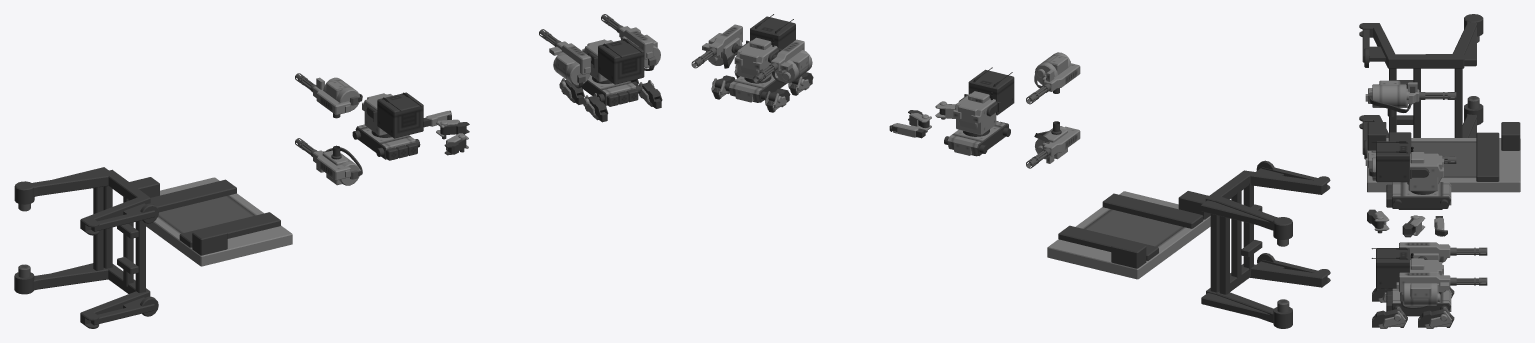
The model's file is deployable_droid.fbx.
The picture shows the model from 3 angles, left to right: view 1: azimuth 30°, elevation 25°; view 2: azimuth 150°, elevation 25°; view 3: azimuth 270°, elevation 25°; orthographic projection.
Visible parts, largest first — view 1: mule_driod_davit, mule_driod_davit_base, deployable_droid_static, deployable_droid_gun, deployable_droid_pivot, deployable_droid_base, deployable_droid_leg_right; view 2: mule_driod_davit, mule_driod_davit_base, deployable_droid_static, deployable_droid_pivot, deployable_droid_gun, deployable_droid_base; view 3: deployable_droid_static, mule_driod_davit_base, mule_driod_davit, deployable_droid_pivot, deployable_droid_gun, deployable_droid_base, deployable_droid_leg_left, deployable_droid_leg_right, deployable_droid_leg_bottom.
Part boxes in pixels (left/top/right/bottom): mule_driod_davit: left=14, top=167, right=158, bottom=328; mule_driod_davit_base: left=129, top=177, right=292, bottom=266; deployable_droid_static: left=539, top=14, right=662, bottom=122; deployable_droid_gun: left=295, top=73, right=362, bottom=185; deployable_droid_pivot: left=362, top=92, right=423, bottom=138; deployable_droid_base: left=352, top=124, right=420, bottom=160; deployable_droid_leg_right: left=436, top=119, right=469, bottom=139; mule_driod_davit: left=1201, top=160, right=1330, bottom=328; mule_driod_davit_base: left=1047, top=191, right=1210, bottom=279; deployable_droid_static: left=691, top=14, right=813, bottom=112; deployable_droid_pivot: left=953, top=67, right=1014, bottom=136; deployable_droid_gun: left=1026, top=52, right=1080, bottom=168; deployable_droid_base: left=944, top=121, right=1010, bottom=156; deployable_droid_static: left=1371, top=242, right=1487, bottom=328; mule_driod_davit_base: left=1367, top=122, right=1520, bottom=192; mule_driod_davit: left=1359, top=14, right=1483, bottom=159; deployable_droid_pivot: left=1371, top=141, right=1443, bottom=194; deployable_droid_gun: left=1365, top=80, right=1456, bottom=180; deployable_droid_base: left=1386, top=182, right=1451, bottom=209; deployable_droid_leg_left: left=1367, top=209, right=1389, bottom=233; deployable_droid_leg_right: left=1402, top=215, right=1425, bottom=237; deployable_droid_leg_bottom: left=1434, top=216, right=1447, bottom=236.
Bounding box in the file's own units: 743 × 202 × 172.
3 materials, 2 textured.
